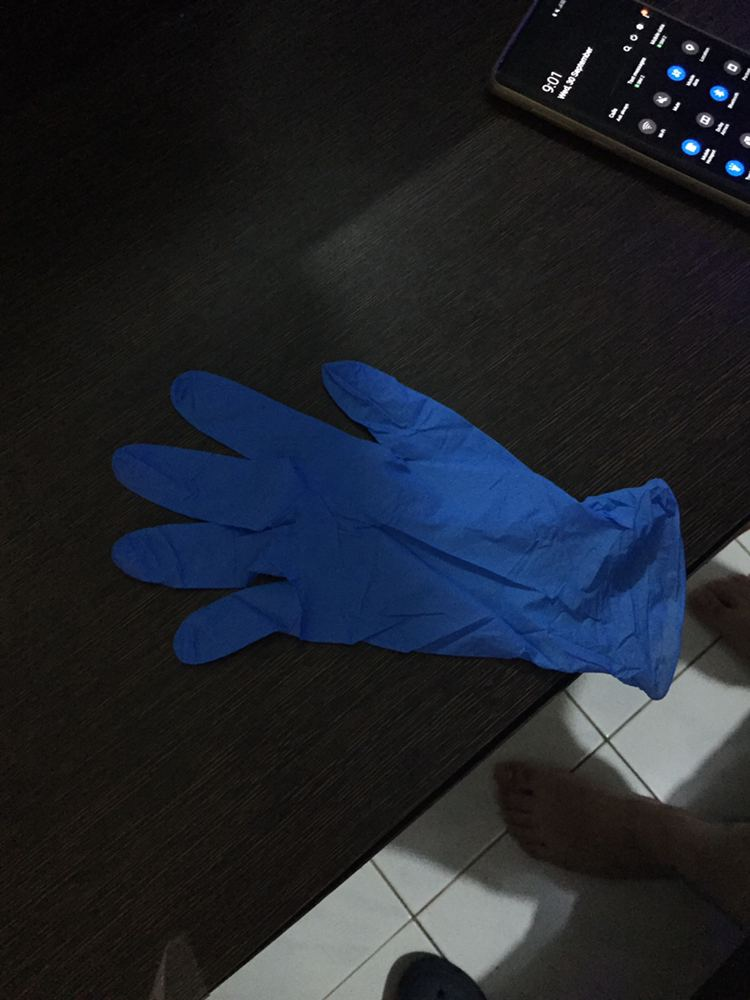glove: (64, 345, 709, 757)
